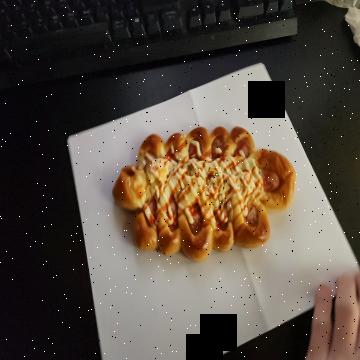pizza_bread: (114, 126, 298, 258)
